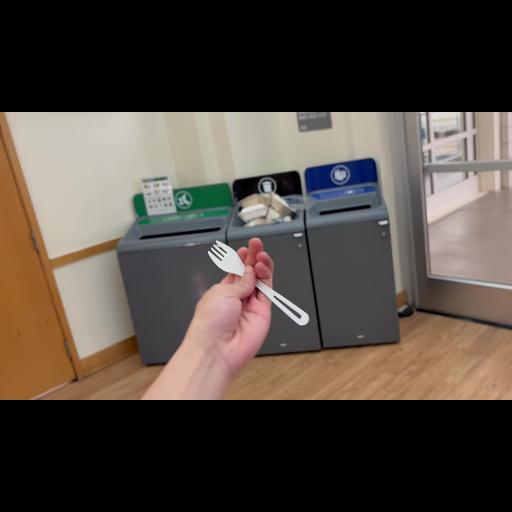utensil: (205, 237, 319, 331)
